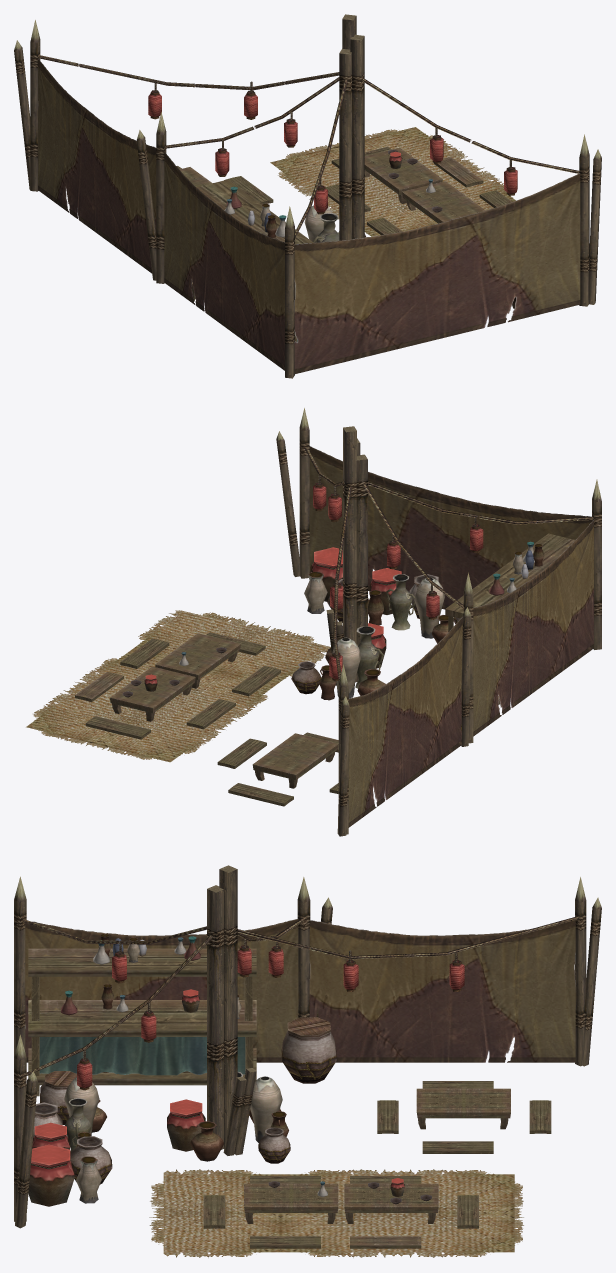
The model's file is jiupu_yc_40.FBX.
3 views of the same model, one above another, from view 1: azimuth 30°, elevation 25°; view 2: azimuth 150°, elevation 25°; view 3: azimuth 270°, elevation 25° (orthographic). The views are drawn at different scales.
Parts seen in each view (by area): view 1: jiupu_yc_40; view 2: jiupu_yc_40; view 3: jiupu_yc_40.
Boxes of the visible parts, x1,y1,x2,y2 form: jiupu_yc_40: (14,14,601,378); jiupu_yc_40: (26,408,601,836); jiupu_yc_40: (14,865,601,1257).
Size of what is drawn, in the model's own units: 911 by 592 by 1123.
